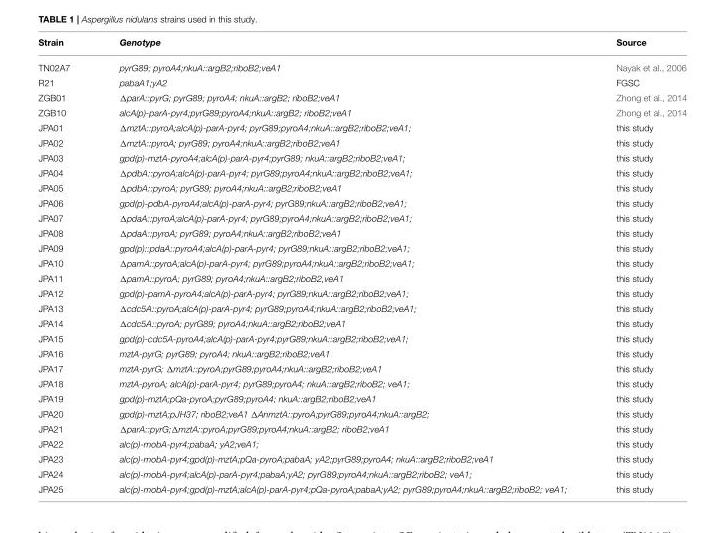table: (37, 37, 686, 493)
table column: (94, 37, 590, 493), (590, 37, 686, 493), (37, 37, 94, 493)
table column header: (37, 37, 686, 54)
table row: (37, 54, 686, 75), (37, 37, 686, 54), (37, 315, 686, 331), (37, 75, 686, 90), (37, 90, 686, 105), (37, 105, 686, 120), (37, 120, 686, 135), (37, 135, 686, 150), (37, 150, 686, 165), (37, 165, 686, 180), (37, 180, 686, 195), (37, 195, 686, 210), (37, 210, 686, 225), (37, 225, 686, 240), (37, 240, 686, 255), (37, 255, 686, 270), (37, 270, 686, 285), (37, 285, 686, 300), (37, 300, 686, 315), (37, 331, 686, 346), (37, 346, 686, 361), (37, 361, 686, 376), (37, 376, 686, 391), (37, 391, 686, 406), (37, 406, 686, 421), (37, 421, 686, 436), (37, 436, 686, 451), (37, 451, 686, 466), (37, 466, 686, 481), (37, 481, 686, 493)
